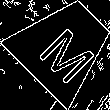M_NE: (30, 12, 98, 80)
